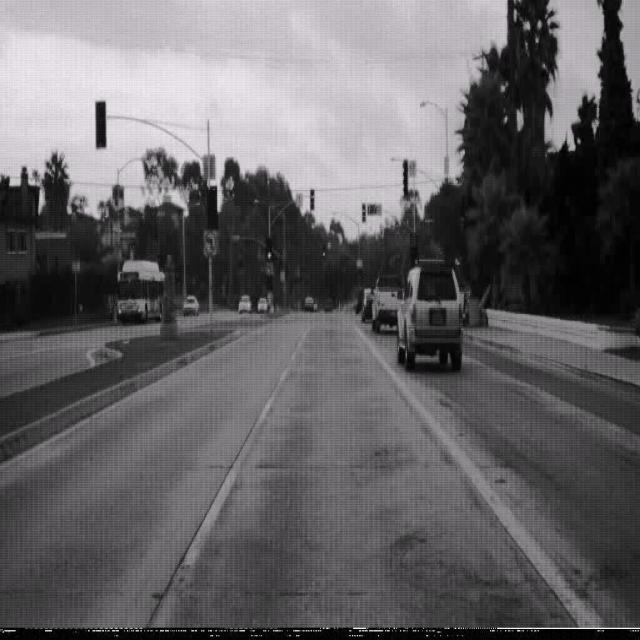noLeftTurn: (202, 228, 217, 258)
